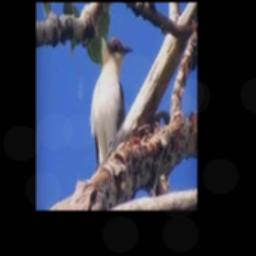Cuckoo: (90, 38, 134, 167)
